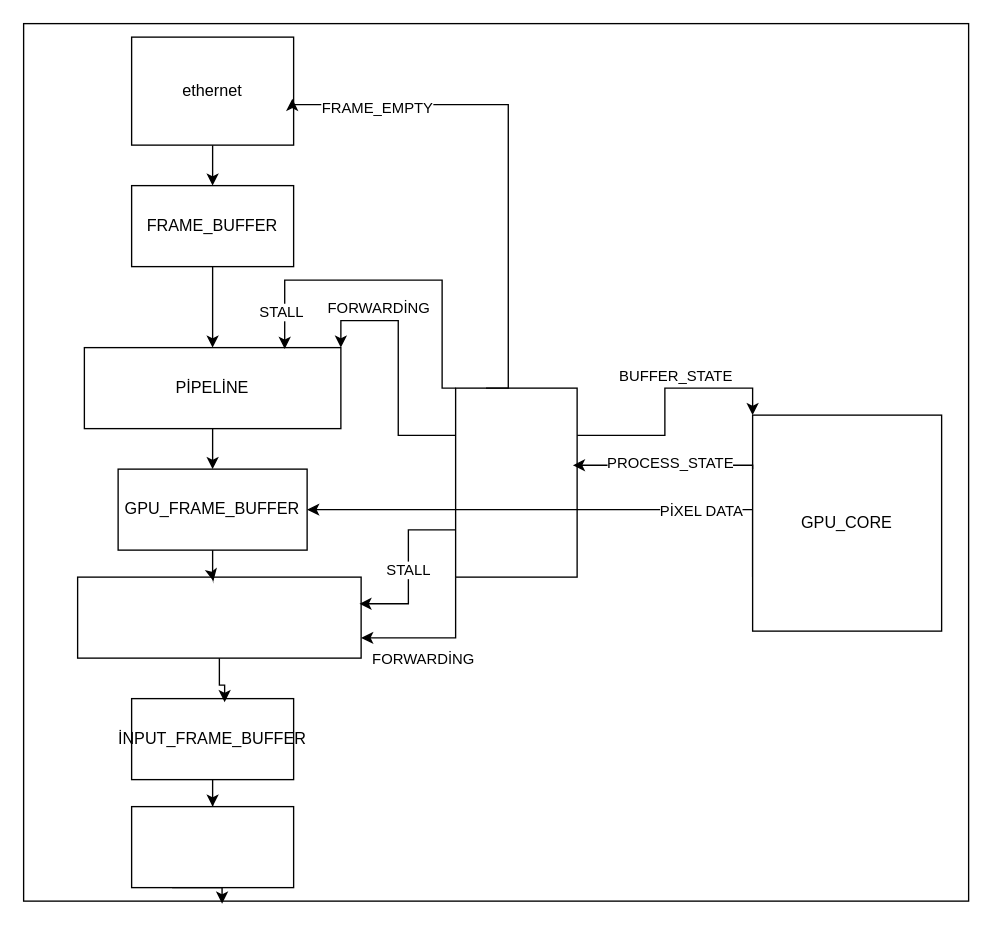
This 992x938 diagram has some shape labels left out. Each missing label, with the centre of its shape:
"FSM CONTROLLER" goes at (515,482).
"HDMİ" goes at (212,846).
"PİPLİNE" goes at (218,617).
